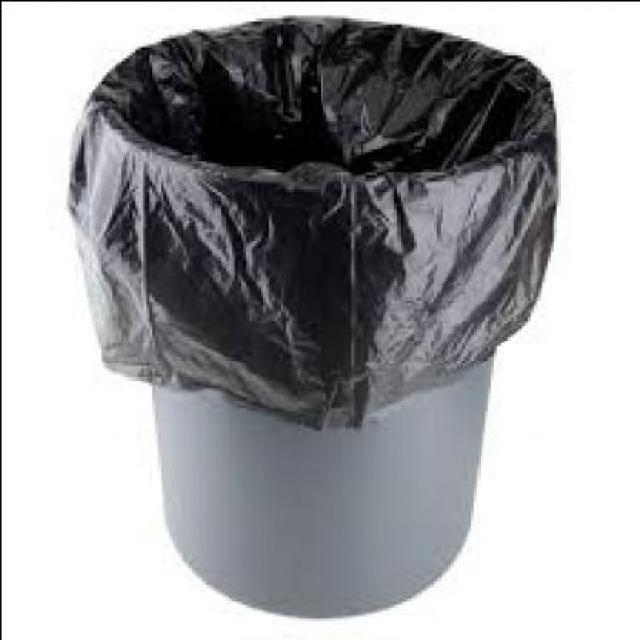PLASTIC: (70, 19, 556, 429), (155, 362, 488, 617)
